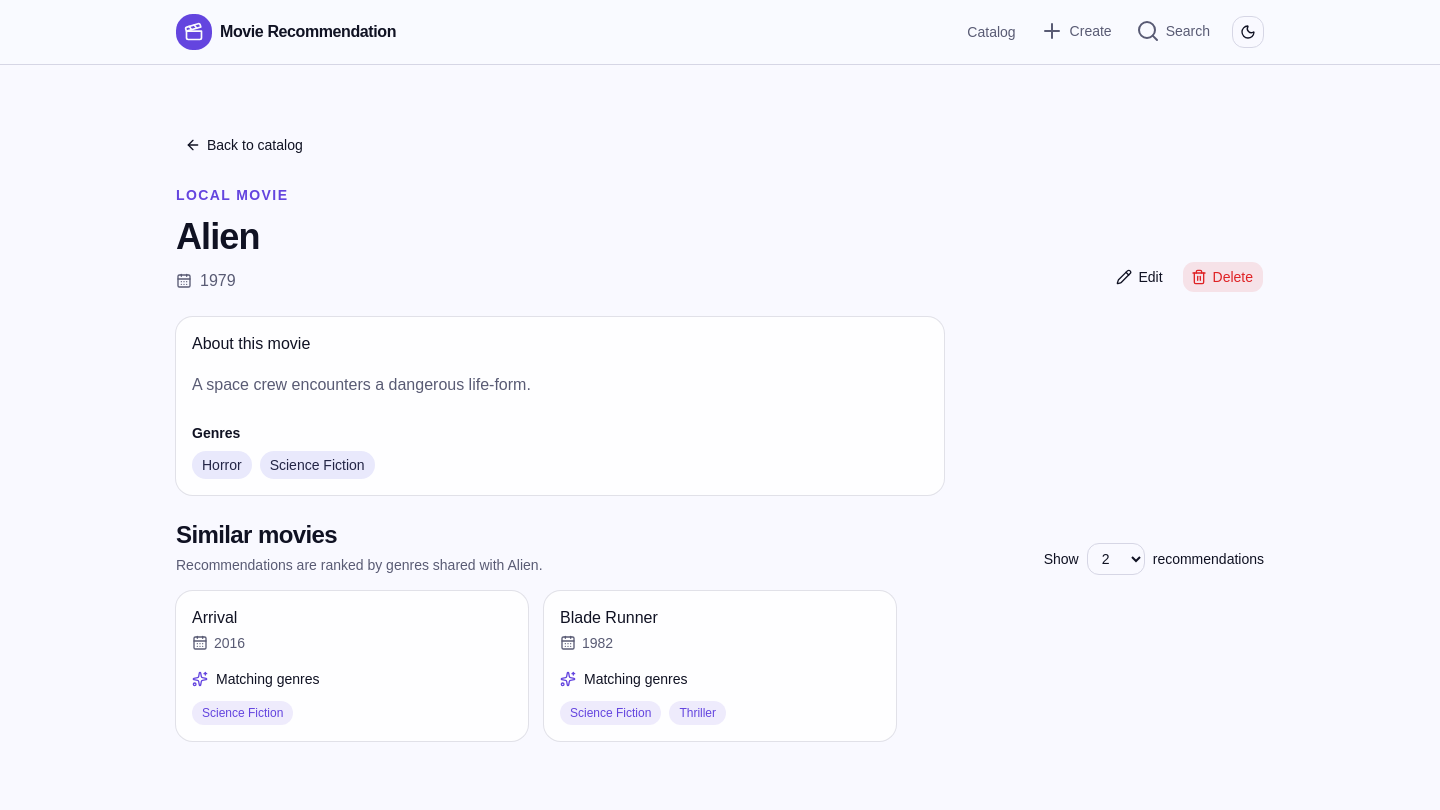
Test: movie recommendations › supports cyclic recommendation navigation without retaining old content
Click the link "Arrival 2016 Matching genres Science Fiction": (352, 666) [176,591,528,741]
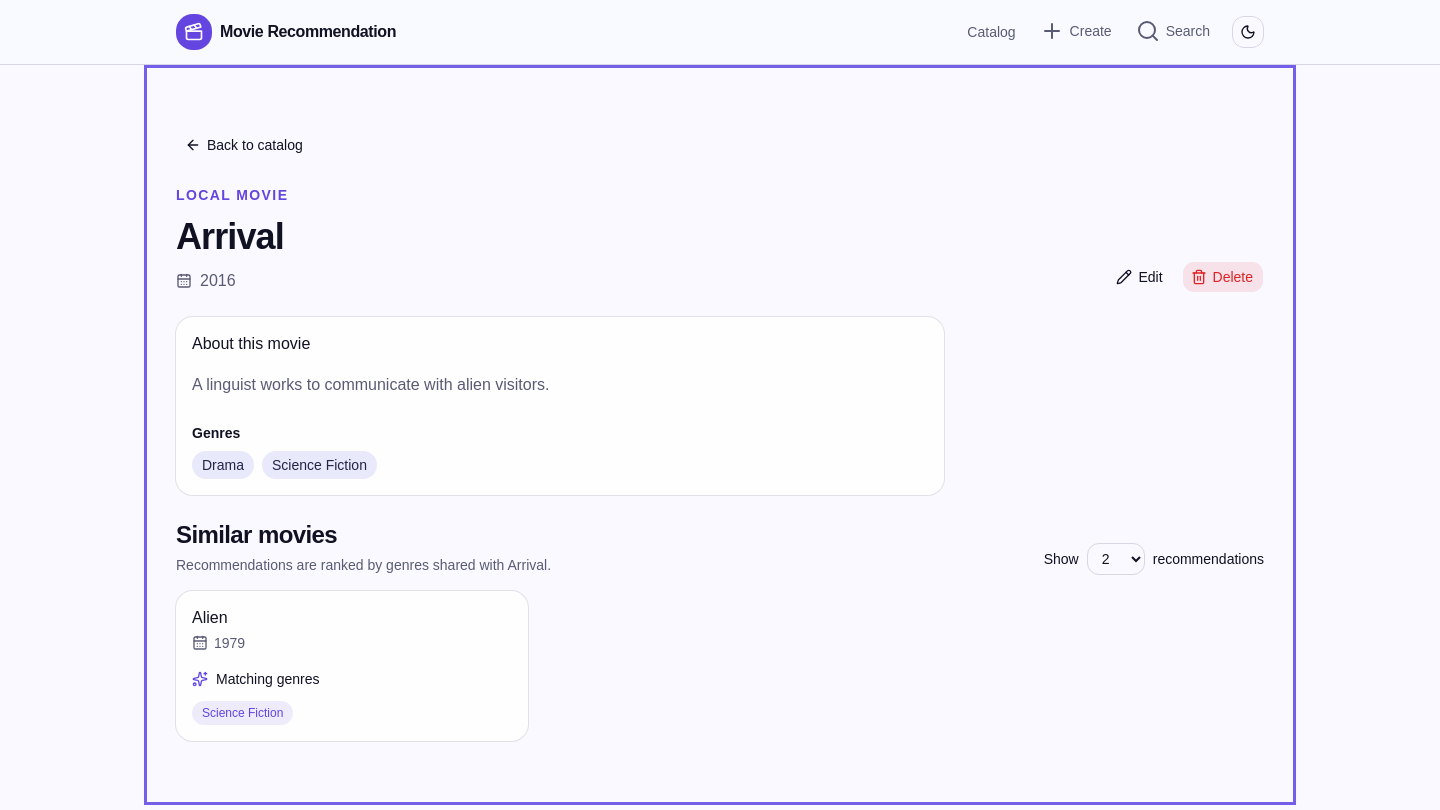
Expected: the heading "Arrival" is shown, [176,217,288,257]
Expected: the link "Blade Runner" is gone
Click the link "Alien 1979 Matching genres Science Fiction": (352, 666) [176,591,528,741]
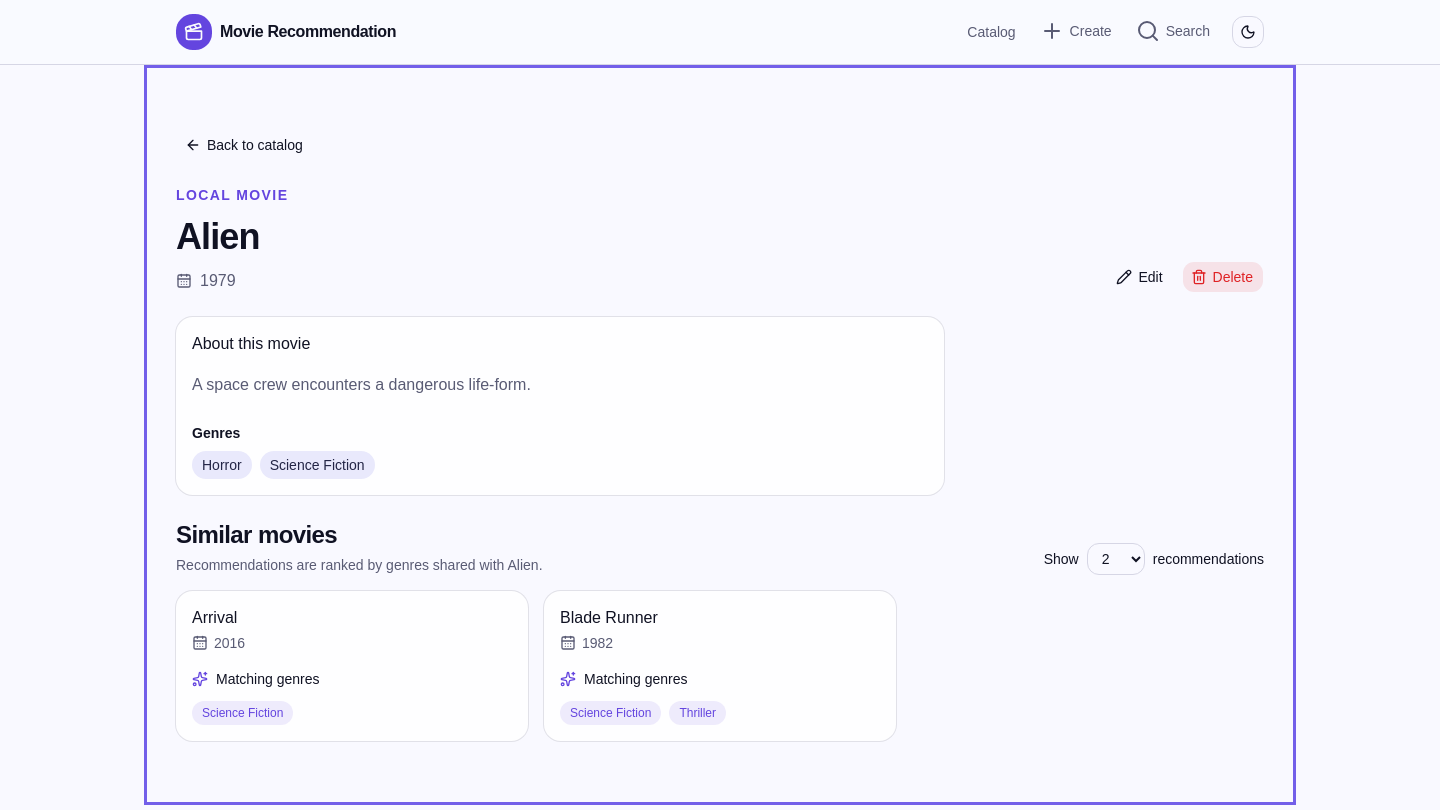
Expected: the heading "Arrival" is shown, [192,609,237,626]
Expected: the heading "Alien" is shown, [176,216,260,257]
